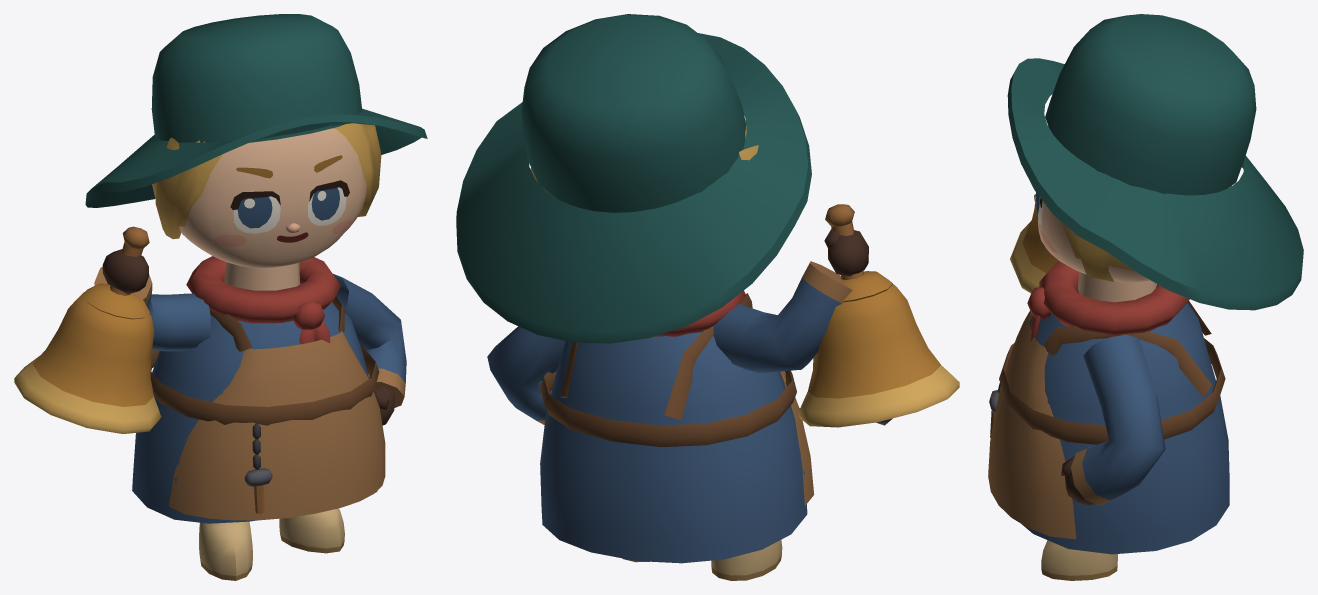
The model's file is bellfounder.glb.
3 renders of one model, left to right at view 1: azimuth 30°, elevation 25°; view 2: azimuth 150°, elevation 25°; view 3: azimuth 270°, elevation 25°, orthographic. The views are drawn at different scales.
Visible parts, largest first — view 1: bellfounder; view 2: bellfounder; view 3: bellfounder.
Boxes of the visible parts, <box> form: bellfounder: <box>14,14,427,580</box>; bellfounder: <box>456,14,959,580</box>; bellfounder: <box>988,14,1303,580</box>.
Bounding box in the file's own units: 0.7863 × 0.9159 × 0.4981.
